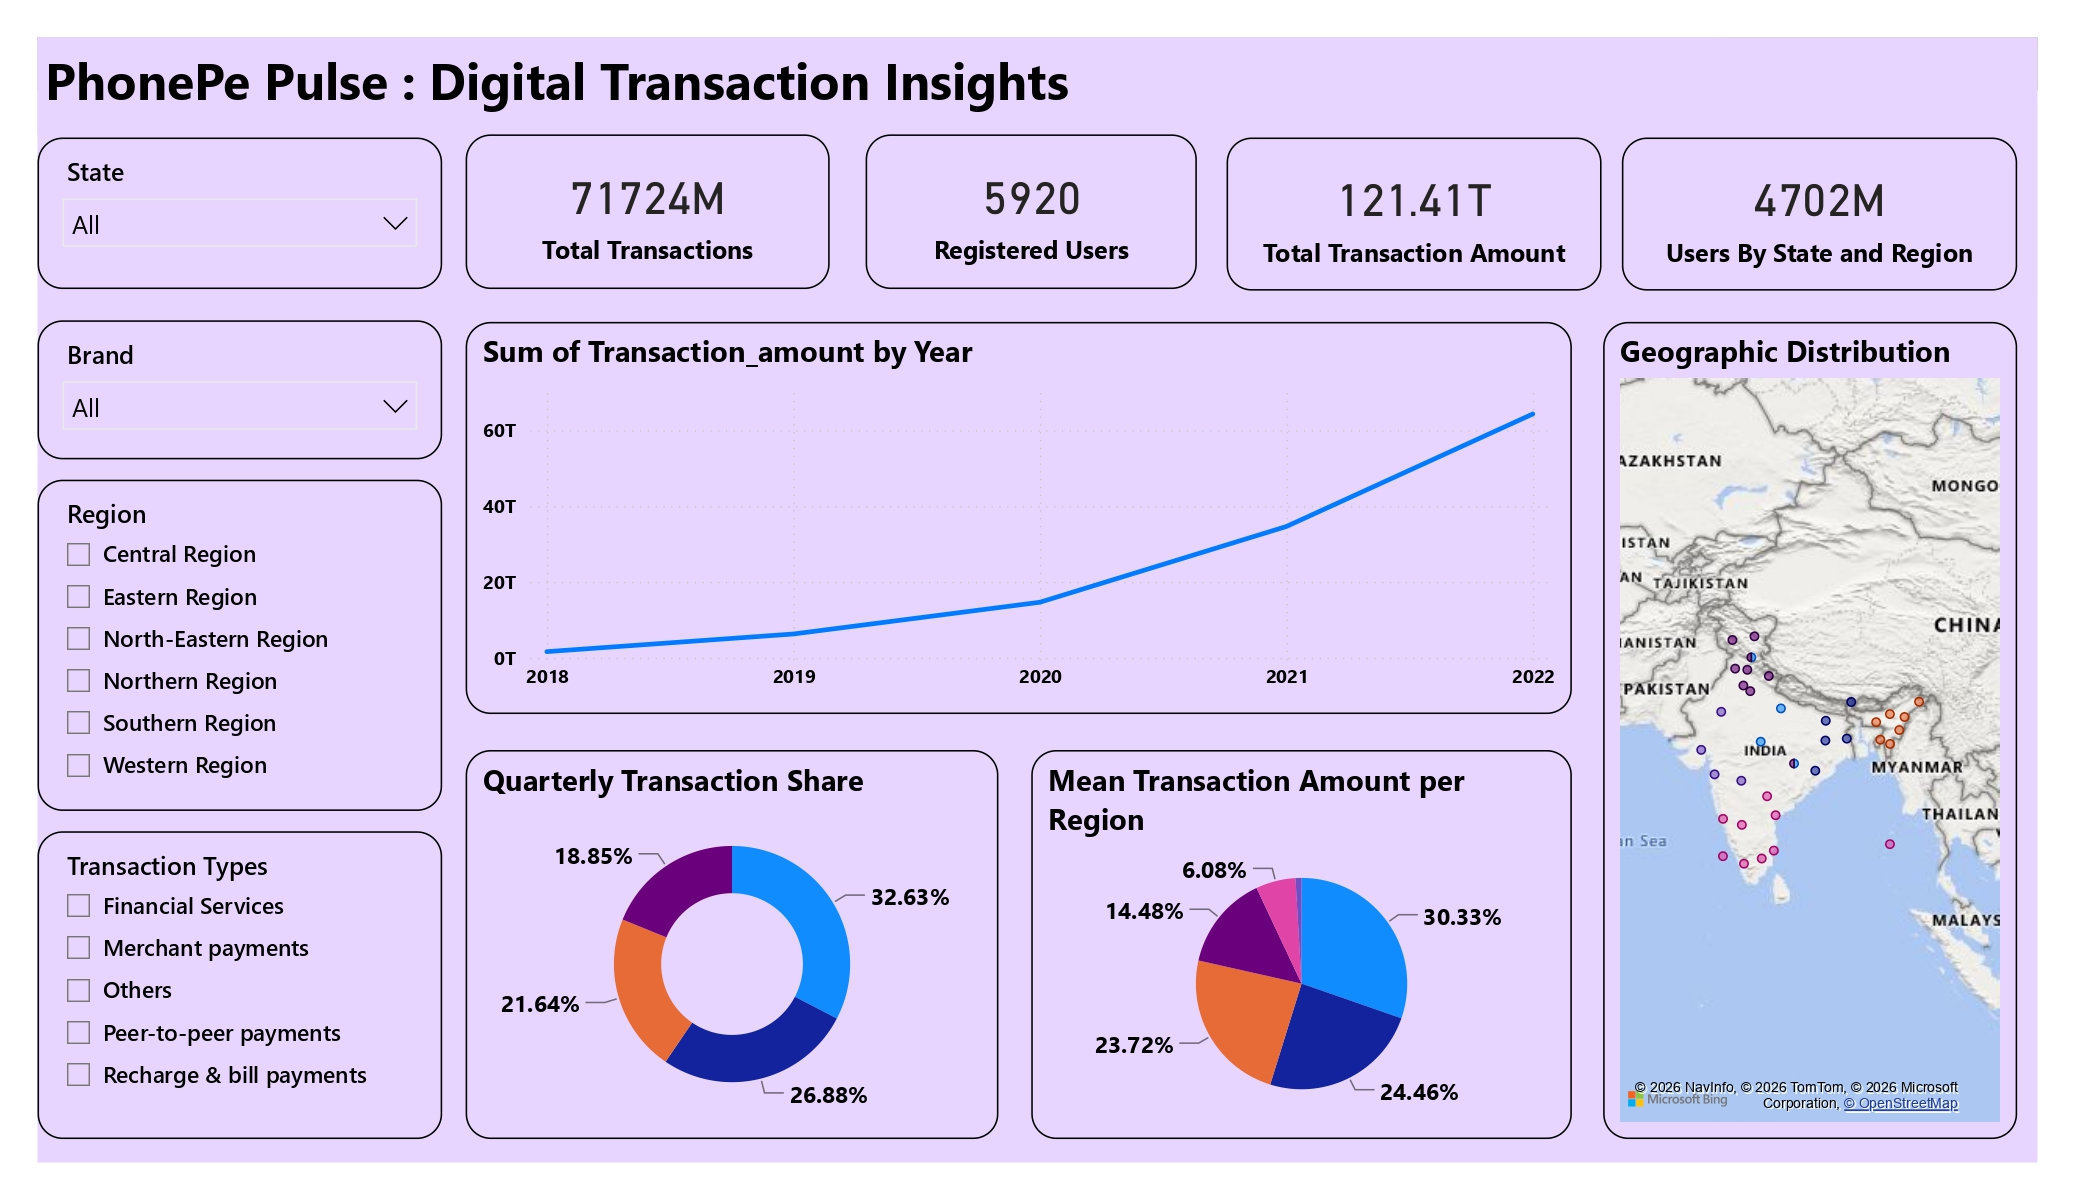

Layout of this report page (visuals, bound fields, positions):
{"tool":"powerbi","page":{"name":"Page 1","canvas":[1280,720],"ordinal":0},"visuals":[{"type":"textbox","box":[0,0,1081.4,62.2],"z":0},{"type":"card","fields":{"Values":["Sum(agg_trans.Transaction_count)"]},"box":[273.9,62.3,233.3,98.6],"z":1000},{"type":"card","fields":{"Values":["CountNonNull(top_user_dist.Registered_users)"]},"box":[530.4,62.3,211.6,98.6],"z":2000},{"type":"card","fields":{"Values":["Sum(map_trans.Transaction_amount)"]},"box":[760.9,63.8,240.6,98.6],"z":3000},{"type":"map","title":"Geographic Distribution","fields":{"Category":["top_user_dist.State"],"Series":["top_trans_dist.Region"]},"box":[1001.5,181.8,265.2,522.7],"z":4000},{"type":"slicer","fields":{"Values":["agg_trans.Transaction_type"]},"box":[0,507.6,259.1,197],"z":5000},{"type":"slicer","fields":{"Values":["map_trans.Region"]},"box":[0,283.3,259.1,212.1],"z":6000},{"type":"card","fields":{"Values":["agg_trans.Users_by_state_region"]},"box":[1013.6,63.6,253,98.5],"z":7000},{"type":"slicer","fields":{"Values":["map_trans.State"]},"box":[0,63.8,259.4,97.1],"z":8000},{"type":"slicer","fields":{"Values":["agg_user.Brand"]},"box":[0,181.2,259.4,88.4],"z":9000},{"type":"lineChart","fields":{"Category":["agg_trans.Year"],"Y":["Sum(agg_trans.Transaction_amount)"]},"box":[274.2,181.8,707.6,251.5],"z":10000},{"type":"donutChart","title":"Quarterly Transaction Share","fields":{"Category":["agg_user.Quarter"],"Y":["Sum(agg_trans.Transaction_count)"]},"box":[274.2,456.1,340.9,248.5],"z":11000},{"type":"pieChart","title":"Mean Transaction Amount per Region","fields":{"Category":["agg_trans.Region"],"Y":["Avg(agg_trans.Transaction_amount)"]},"box":[636.4,456.1,345.5,248.5],"z":12000}]}

Visuals, with their boxes in screenshot pixels (x1, y1, x2, y2):
textbox: crop(54, 38, 1722, 134)
card - Sum(agg_trans.Transaction_count): crop(476, 134, 836, 286)
card - CountNonNull(top_user_dist.Registered_users): crop(872, 134, 1198, 286)
card - Sum(map_trans.Transaction_amount): crop(1227, 136, 1598, 288)
"Geographic Distribution" map: crop(1598, 318, 2007, 1124)
slicer - agg_trans.Transaction_type: crop(54, 821, 454, 1124)
slicer - map_trans.Region: crop(54, 475, 454, 802)
card - agg_trans.Users_by_state_region: crop(1617, 136, 2007, 288)
slicer - map_trans.State: crop(54, 136, 454, 286)
slicer - agg_user.Brand: crop(54, 317, 454, 454)
lineChart - agg_trans.Year x Sum(agg_trans.Transaction_amount): crop(477, 318, 1568, 706)
"Quarterly Transaction Share" donutChart: crop(477, 741, 1003, 1124)
"Mean Transaction Amount per Region" pieChart: crop(1035, 741, 1568, 1124)
